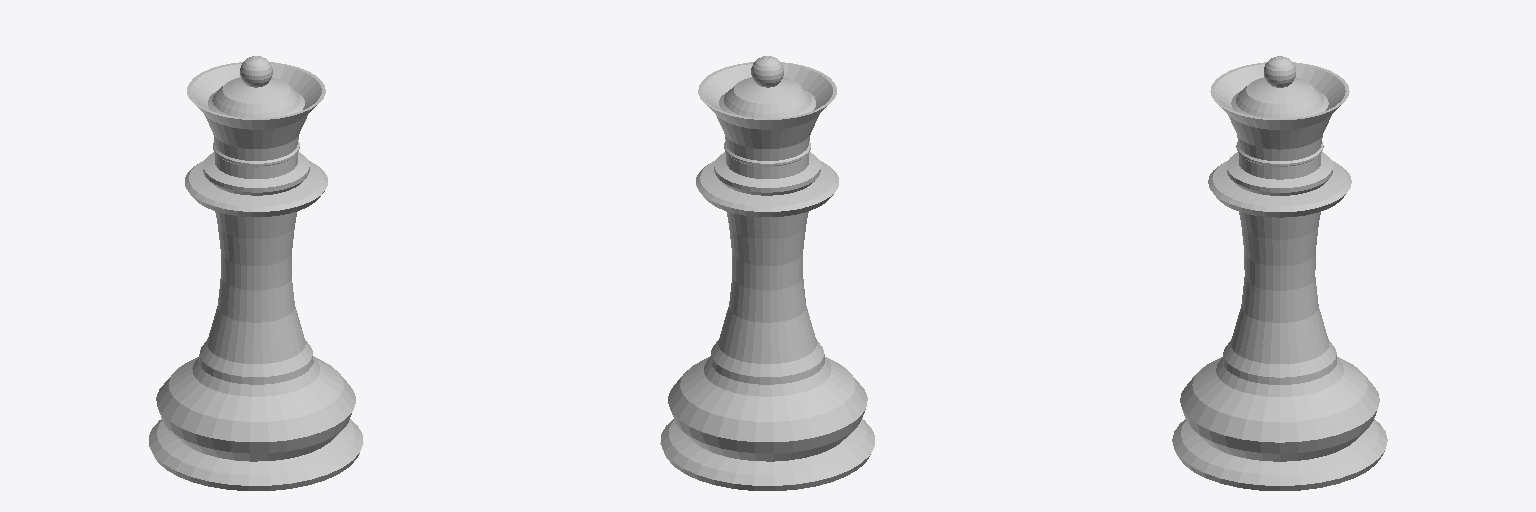
The model's file is krolowa.obj.
The picture shows the model from 3 angles: view 1: azimuth 30°, elevation 25°; view 2: azimuth 150°, elevation 25°; view 3: azimuth 270°, elevation 25°; orthographic projection.
Visible parts, largest first — view 1: Circle_Circle.002; view 2: Circle_Circle.002; view 3: Circle_Circle.002.
Boxes of the visible parts, <box> form: Circle_Circle.002: <box>149,56,363,490</box>; Circle_Circle.002: <box>660,56,874,490</box>; Circle_Circle.002: <box>1172,56,1387,490</box>.
Size of the model in its own units: 1.54 by 3.12 by 1.54.